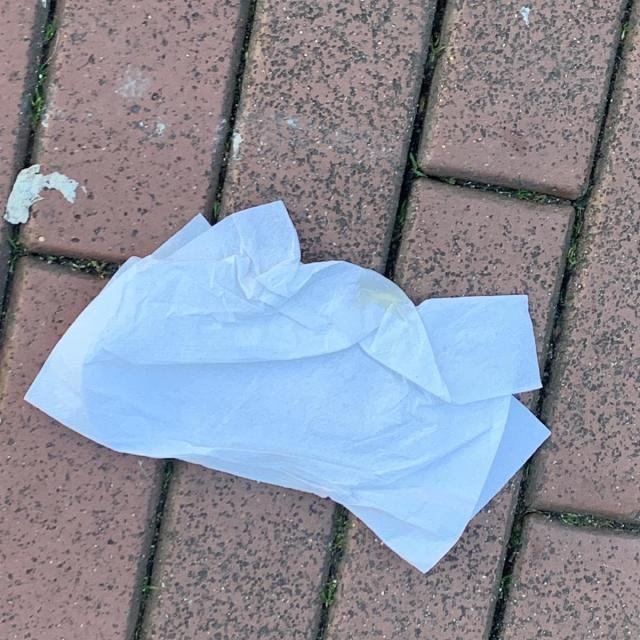Paper: (22, 196, 554, 577)
